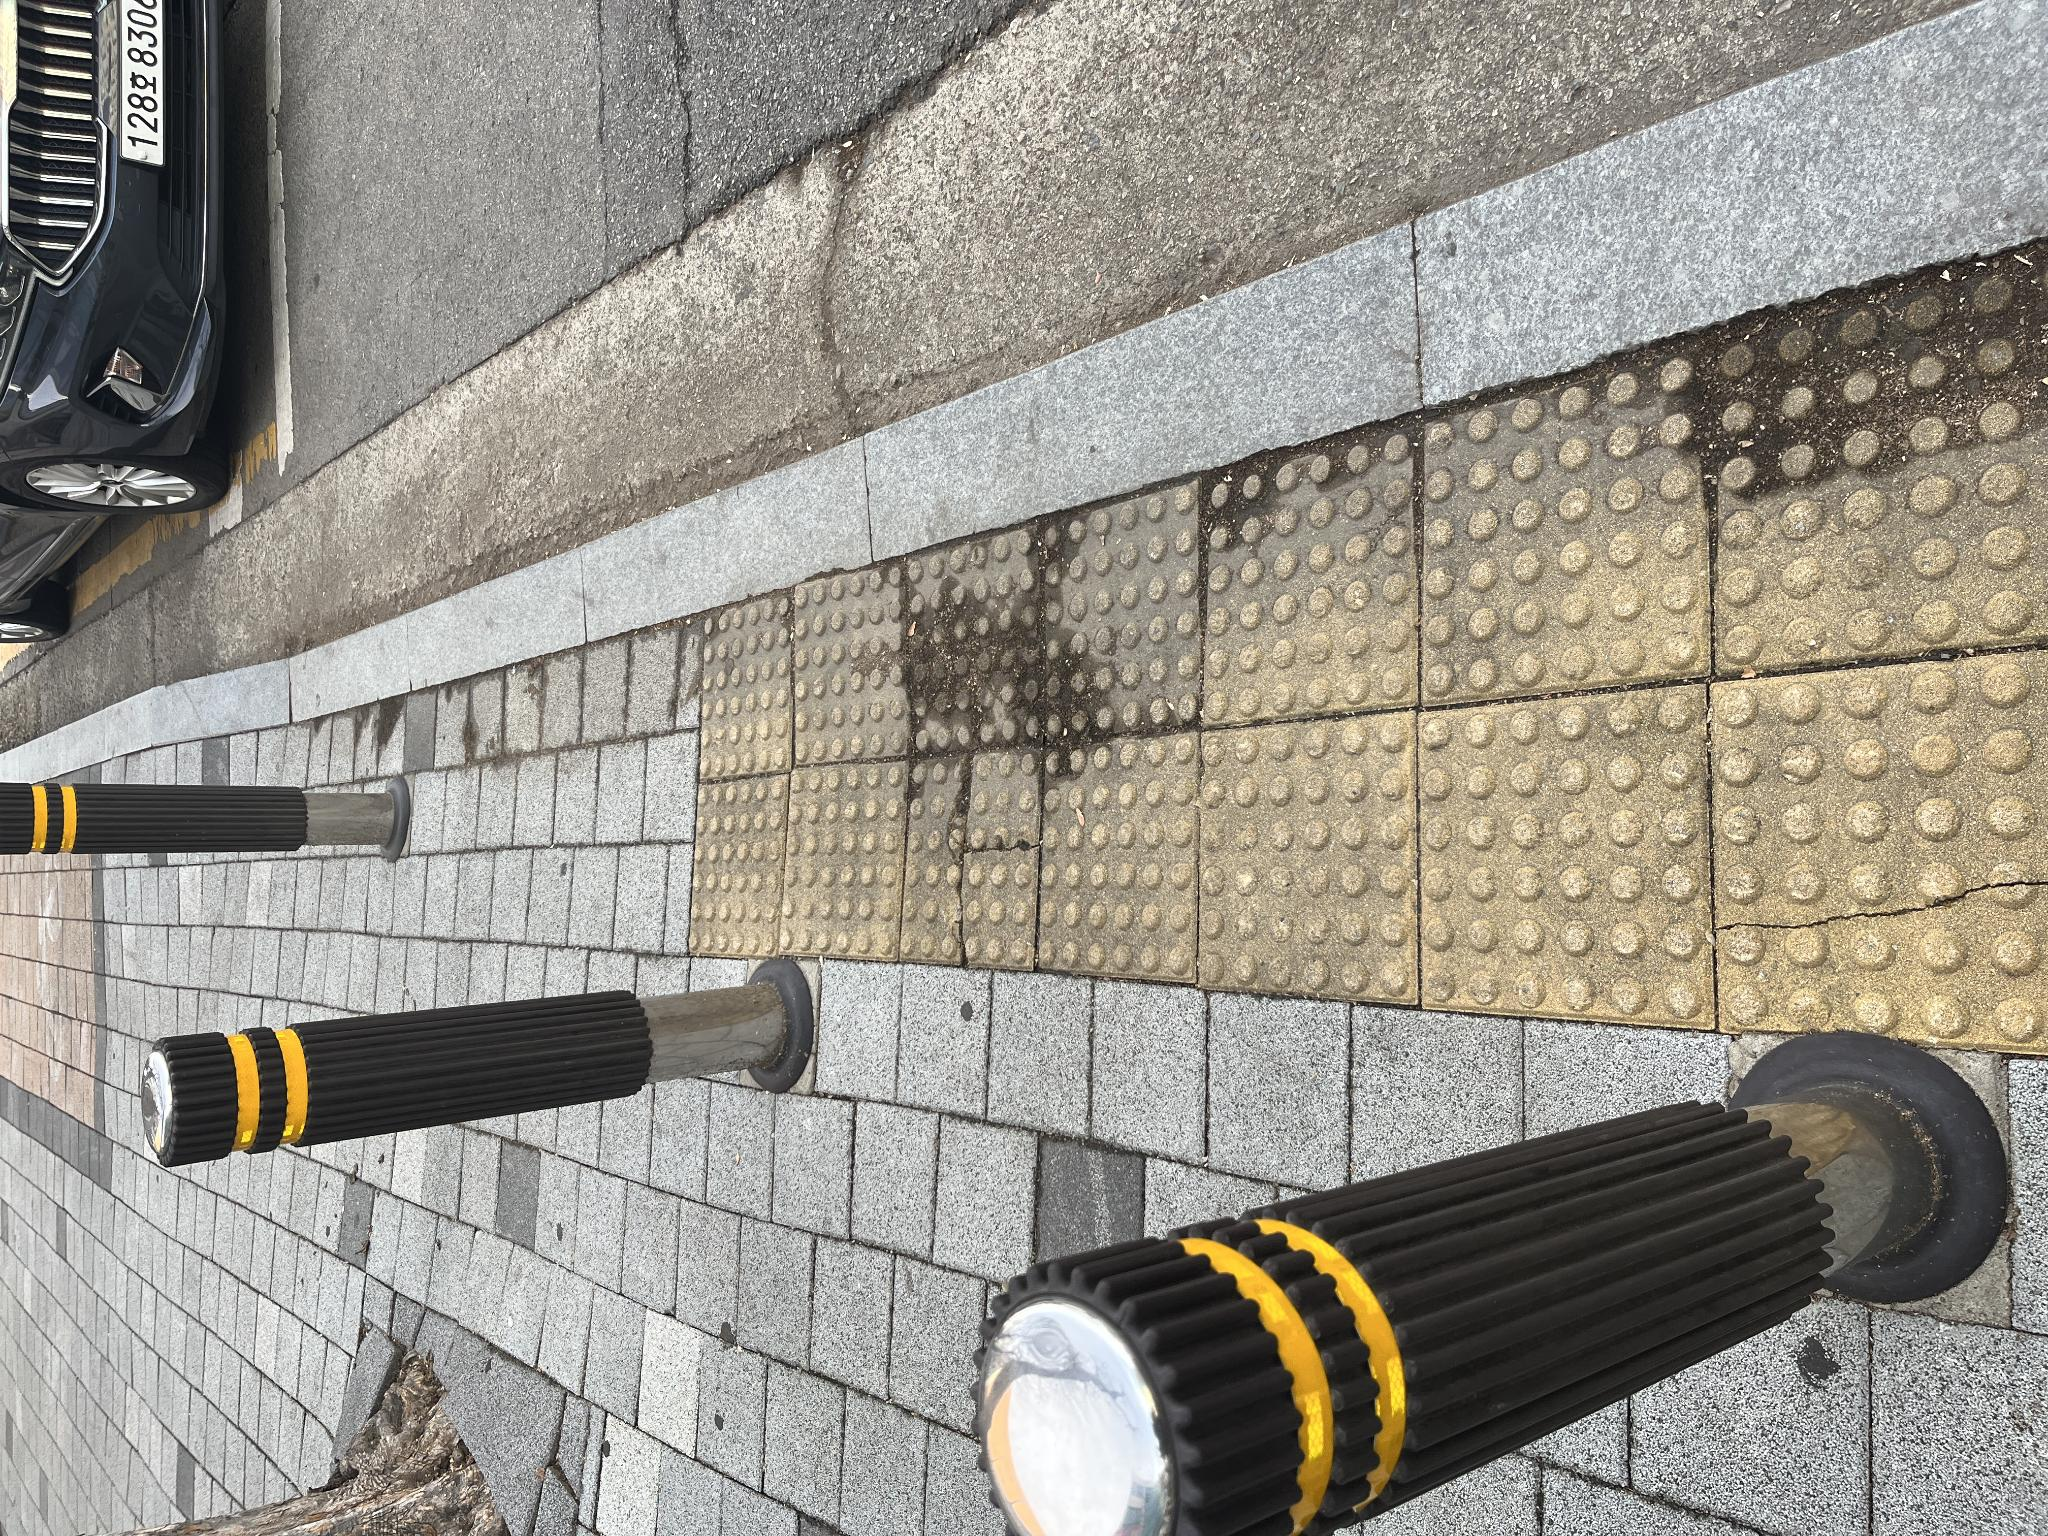Stop block broken: (569, 900, 787, 1039)
Stop block normal: (534, 1200, 822, 1415), (832, 1421, 1145, 1536), (577, 779, 772, 905)
